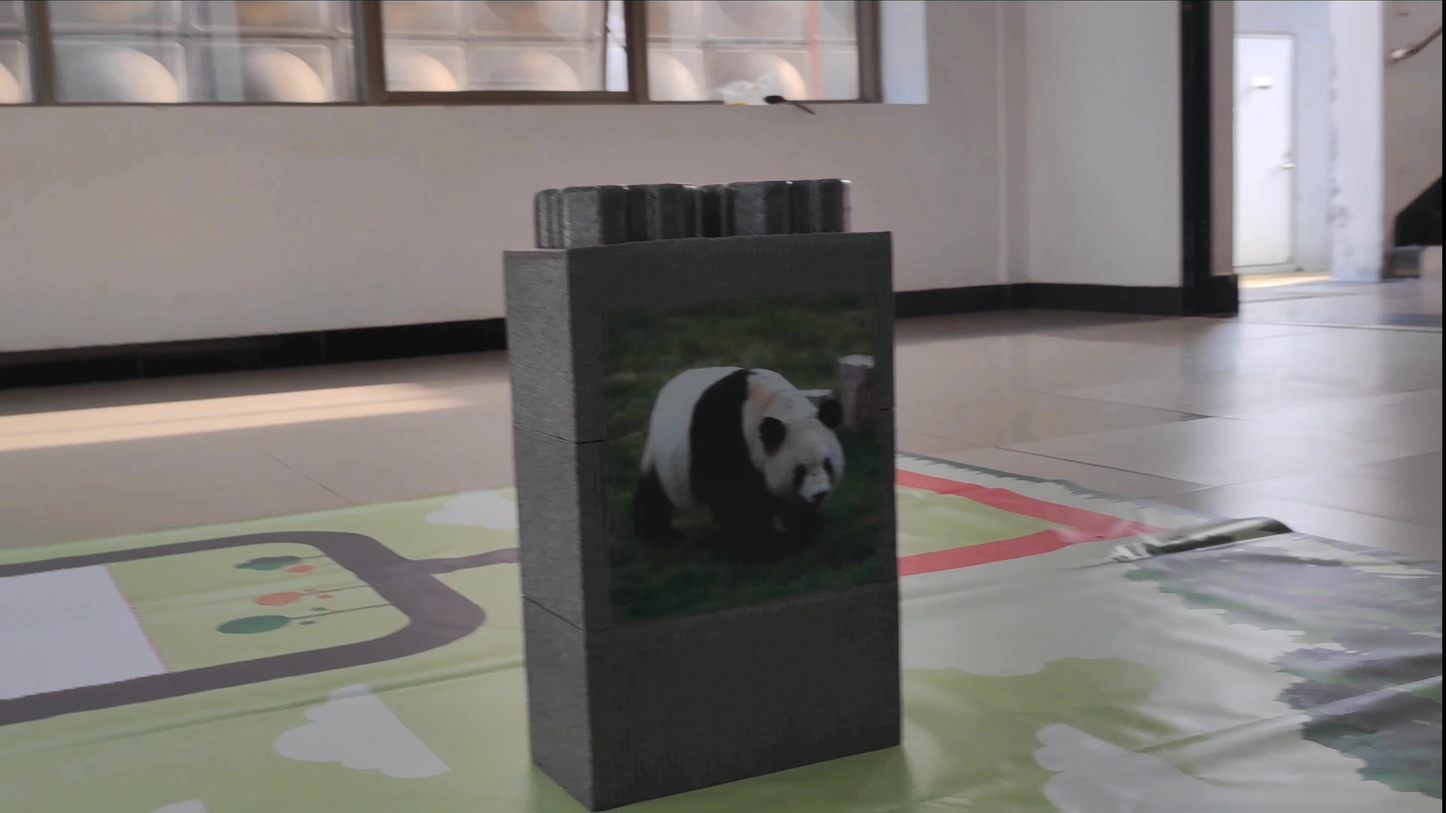panda: (614, 335, 851, 537)
